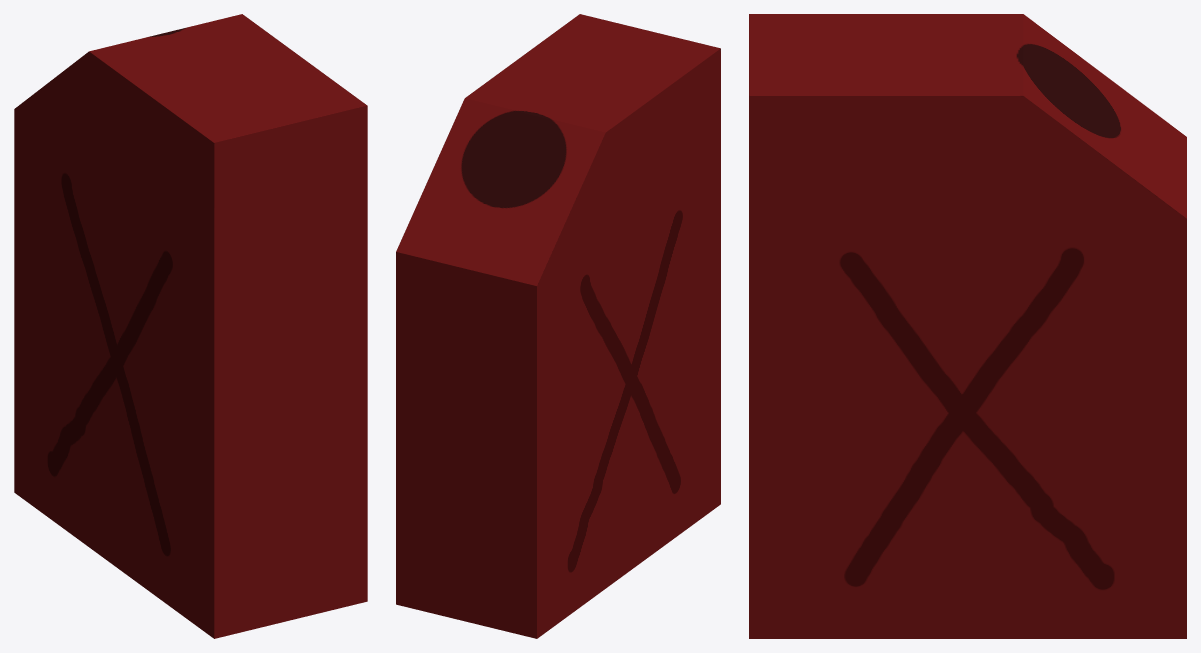
File: speedup.fbx
3 views of the same model, side by side, from view 1: azimuth 30°, elevation 25°; view 2: azimuth 150°, elevation 25°; view 3: azimuth 270°, elevation 25° (orthographic). The views are drawn at different scales.
Parts seen in each view (by area): view 1: jerrycan; view 2: jerrycan; view 3: jerrycan.
Boxes of the visible parts, x1=… form: jerrycan: x1=14, y1=14, x2=367, y2=638; jerrycan: x1=396, y1=14, x2=720, y2=638; jerrycan: x1=749, y1=14, x2=1186, y2=638.
Bounding box in the file's own units: 41.83 × 129 × 94.48.
